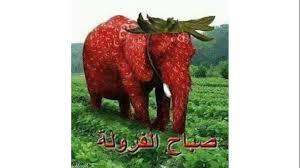strawberry-elephant: (84, 15, 215, 132)
